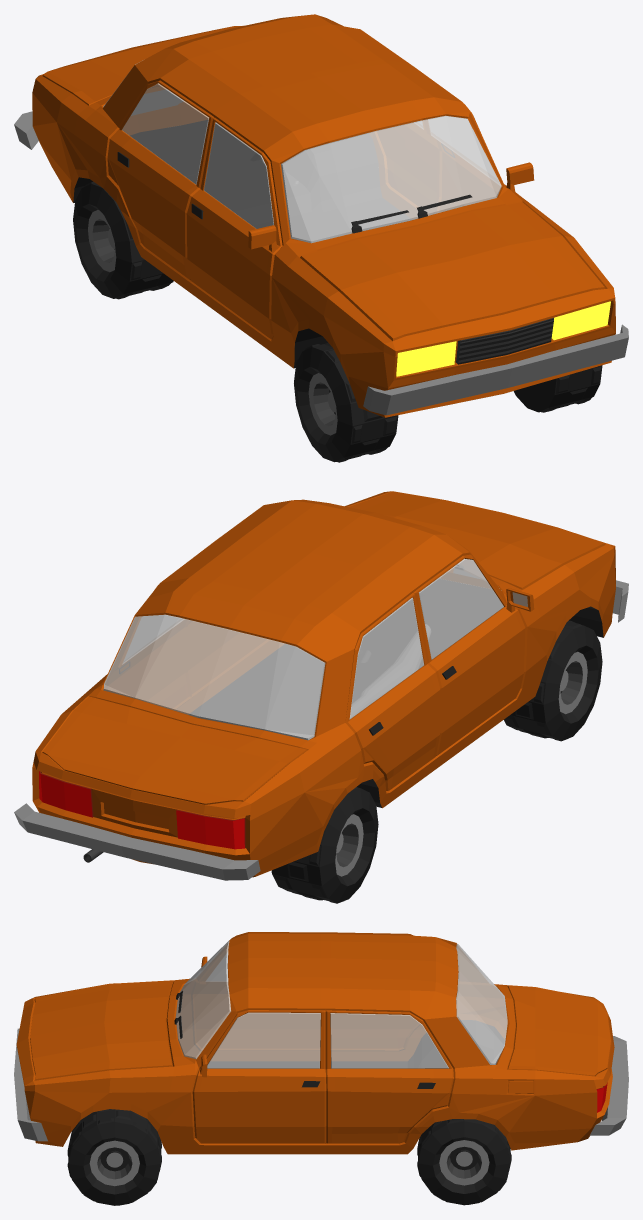
3 views of the same model, one above another, from view 1: azimuth 30°, elevation 25°; view 2: azimuth 150°, elevation 25°; view 3: azimuth 270°, elevation 25° (orthographic). The views are drawn at different scales.
Visible parts, largest first — view 1: Car.001; view 2: Car.001; view 3: Car.001.
Part boxes in pixels (x1,y1,x2,y2): Car.001: (14,14,628,462); Car.001: (14,491,628,903); Car.001: (14,932,628,1205).
Size of the model in its own units: 1.79 by 1.54 by 4.29.
4 materials, 1 textured.
